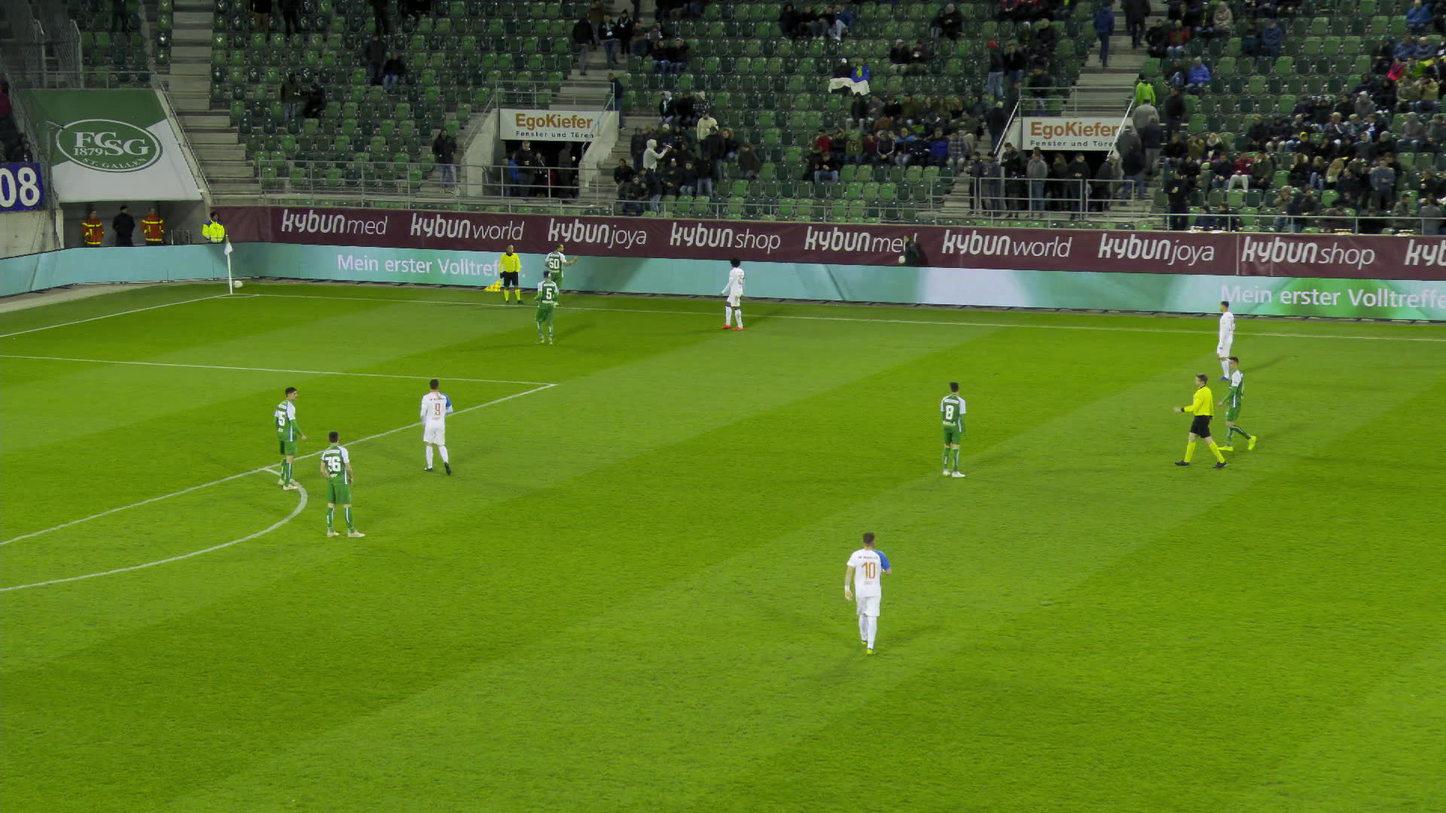ball: (232, 278, 243, 288)
player: (846, 531, 892, 649), (320, 434, 364, 537), (265, 387, 309, 489), (932, 385, 979, 476), (417, 378, 456, 472), (1217, 361, 1256, 452), (718, 260, 752, 330), (1211, 302, 1241, 381), (531, 269, 560, 347), (545, 244, 577, 306)
referee: (1173, 375, 1226, 465), (490, 245, 525, 304)
